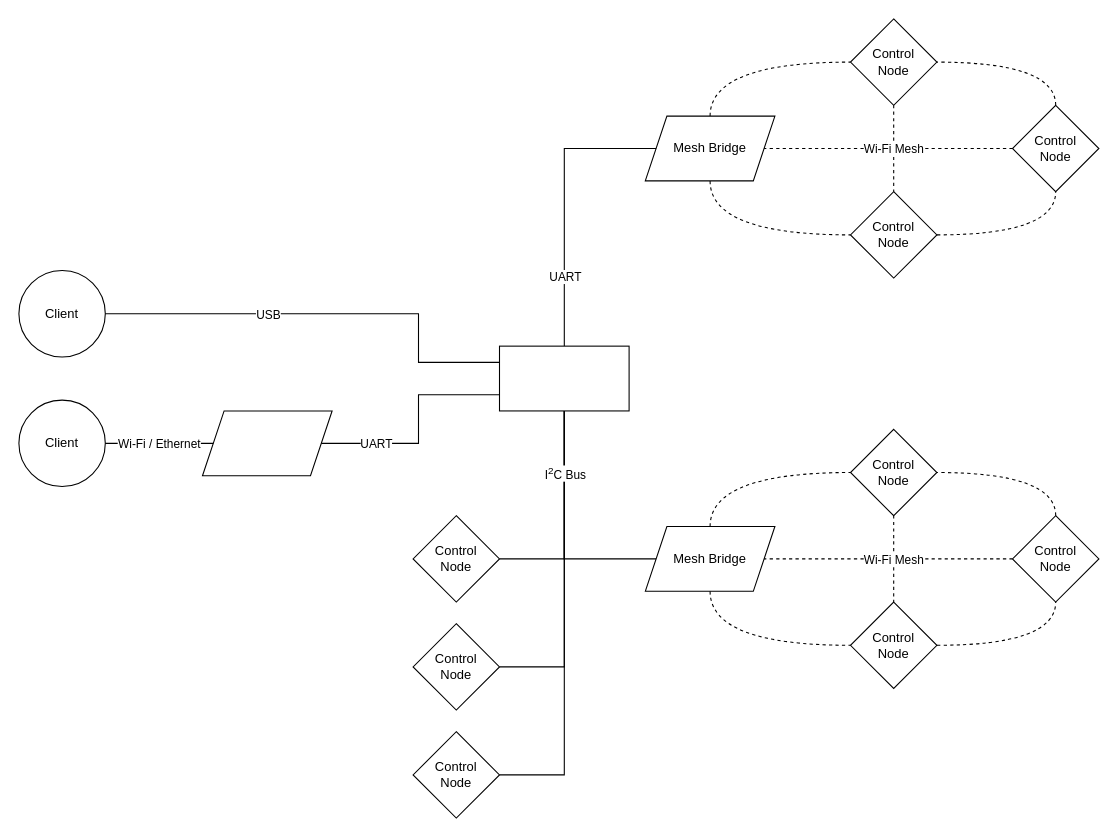
Some shapes in this 1118 by 837 pixel diagram are drawn without their labels. Each missing label, with the box of its shape:
Client Bridge: (201, 410, 332, 476)
Command Node: (498, 345, 629, 411)
